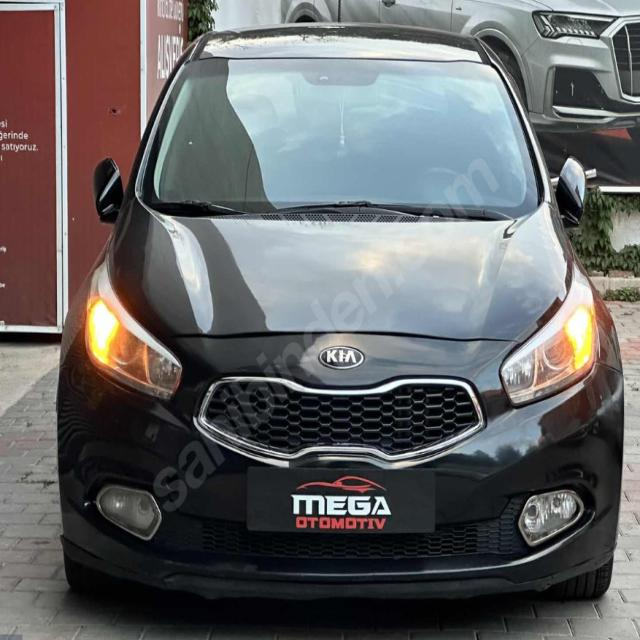kia: (316, 342, 367, 374)
